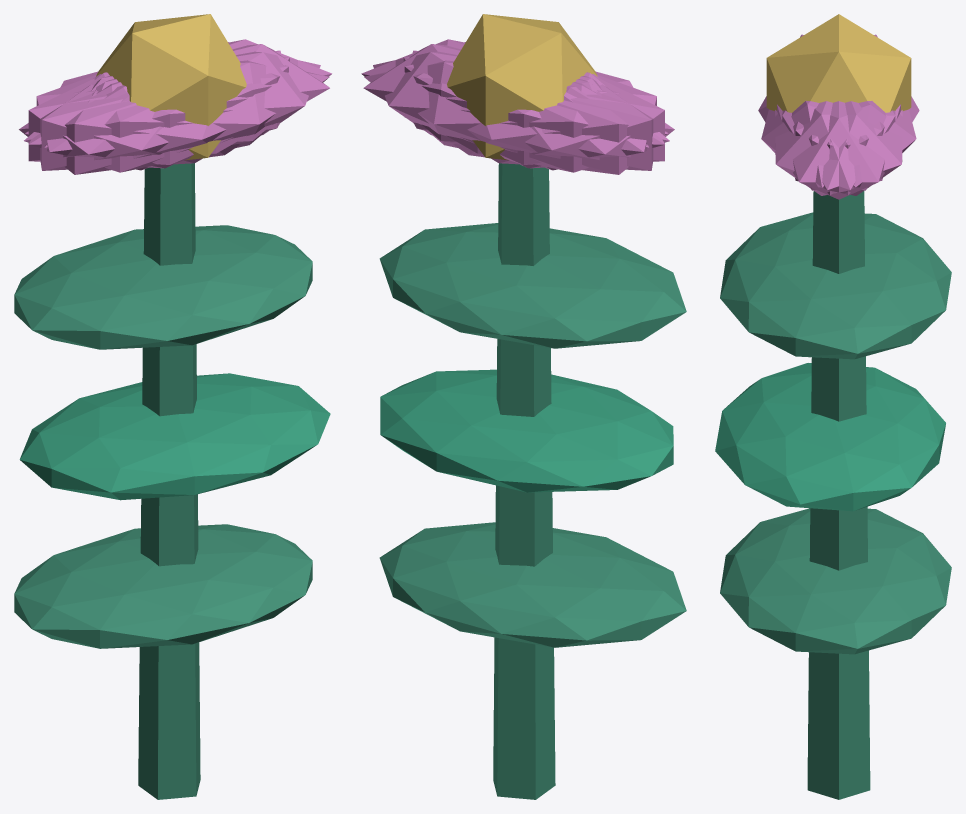
File: parsonsia-alboflavescens.glb
3 renders of one model, left to right at view 1: azimuth 30°, elevation 25°; view 2: azimuth 150°, elevation 25°; view 3: azimuth 270°, elevation 25°, orthographic.
Visible parts, largest first — view 1: leaf1, leaf2, leaf0, stem, center, petal1, petal6, petal2, petal5, petal7, petal0, petal4 (+2 smaller); view 2: leaf2, leaf0, leaf1, stem, center, petal8, petal3, petal7, petal4, petal2, petal0, petal5 (+2 smaller); view 3: leaf2, leaf1, leaf0, stem, center, petal0, petal4, petal5, petal8, petal1.
Part boxes in pixels (bbox=[...]): leaf1: bbox=[19, 373, 330, 500]; leaf2: bbox=[14, 225, 312, 349]; leaf0: bbox=[14, 524, 312, 648]; stem: bbox=[138, 163, 200, 799]; center: bbox=[96, 14, 246, 160]; petal1: bbox=[24, 60, 329, 172]; petal6: bbox=[19, 74, 240, 174]; petal2: bbox=[40, 50, 280, 170]; petal5: bbox=[44, 51, 320, 164]; petal7: bbox=[28, 57, 289, 168]; petal0: bbox=[95, 44, 329, 154]; petal4: bbox=[25, 39, 331, 144]; leaf2: bbox=[379, 223, 686, 348]; leaf0: bbox=[379, 522, 686, 647]; leaf1: bbox=[380, 369, 673, 492]; stem: bbox=[493, 163, 555, 799]; center: bbox=[447, 14, 597, 160]; petal8: bbox=[364, 60, 669, 172]; petal3: bbox=[453, 74, 674, 174]; petal7: bbox=[412, 50, 653, 170]; petal4: bbox=[373, 51, 649, 164]; petal2: bbox=[403, 57, 664, 168]; petal0: bbox=[363, 44, 597, 154]; petal5: bbox=[361, 39, 668, 144]; leaf2: bbox=[720, 212, 951, 359]; leaf1: bbox=[715, 363, 945, 511]; leaf0: bbox=[720, 508, 951, 654]; stem: bbox=[807, 191, 870, 799]; center: bbox=[766, 14, 911, 112]; petal0: bbox=[777, 101, 900, 199]; petal4: bbox=[782, 101, 902, 195]; petal5: bbox=[775, 101, 895, 195]; petal8: bbox=[793, 101, 916, 187]; petal1: bbox=[761, 101, 884, 187].
Size of the model in its own units: 0.1483 by 0.3521 by 0.1003.
